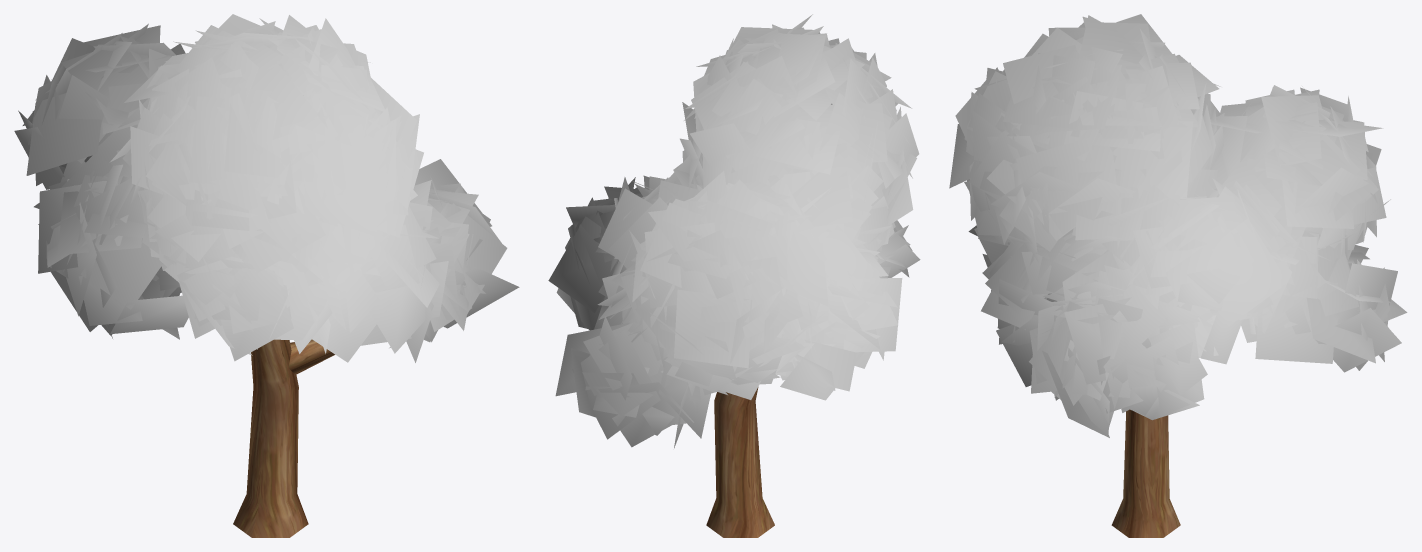
The model's file is tree1.fbx.
The picture shows the model from 3 angles, left to right: view 1: azimuth 30°, elevation 25°; view 2: azimuth 150°, elevation 25°; view 3: azimuth 270°, elevation 25°; orthographic projection. The views are drawn at different scales.
Parts seen in each view (by area): view 1: Cylinder.016; view 2: Cylinder.016; view 3: Cylinder.016.
Boxes of the visible parts, bbox=[...] form: Cylinder.016: bbox=[14, 14, 519, 537]; Cylinder.016: bbox=[548, 14, 920, 537]; Cylinder.016: bbox=[949, 14, 1407, 537].
Bounding box in the file's own units: 459 × 566 × 486.
